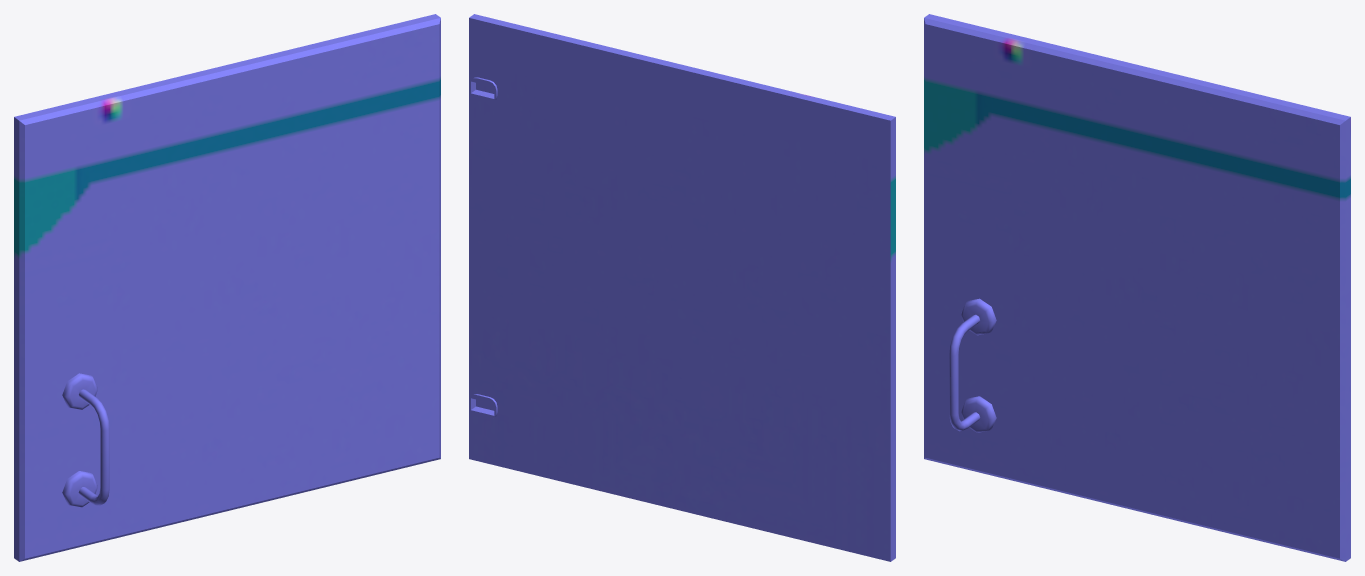
File: SM_Locker_2_door_l.fbx
3 views of the same model, side by side, from view 1: azimuth 30°, elevation 25°; view 2: azimuth 150°, elevation 25°; view 3: azimuth 330°, elevation 25° (orthographic).
Parts seen in each view (by area): view 1: SM_Locker_2_door_l; view 2: SM_Locker_2_door_l; view 3: SM_Locker_2_door_l.
Part boxes in pixels (left/top/right/bottom): SM_Locker_2_door_l: left=14, top=14, right=440, bottom=561; SM_Locker_2_door_l: left=469, top=14, right=895, bottom=561; SM_Locker_2_door_l: left=924, top=14, right=1350, bottom=561.
Bounding box in the file's own units: 49.8 × 49.79 × 7.53.
Materials: 1 (1 with a texture image).
